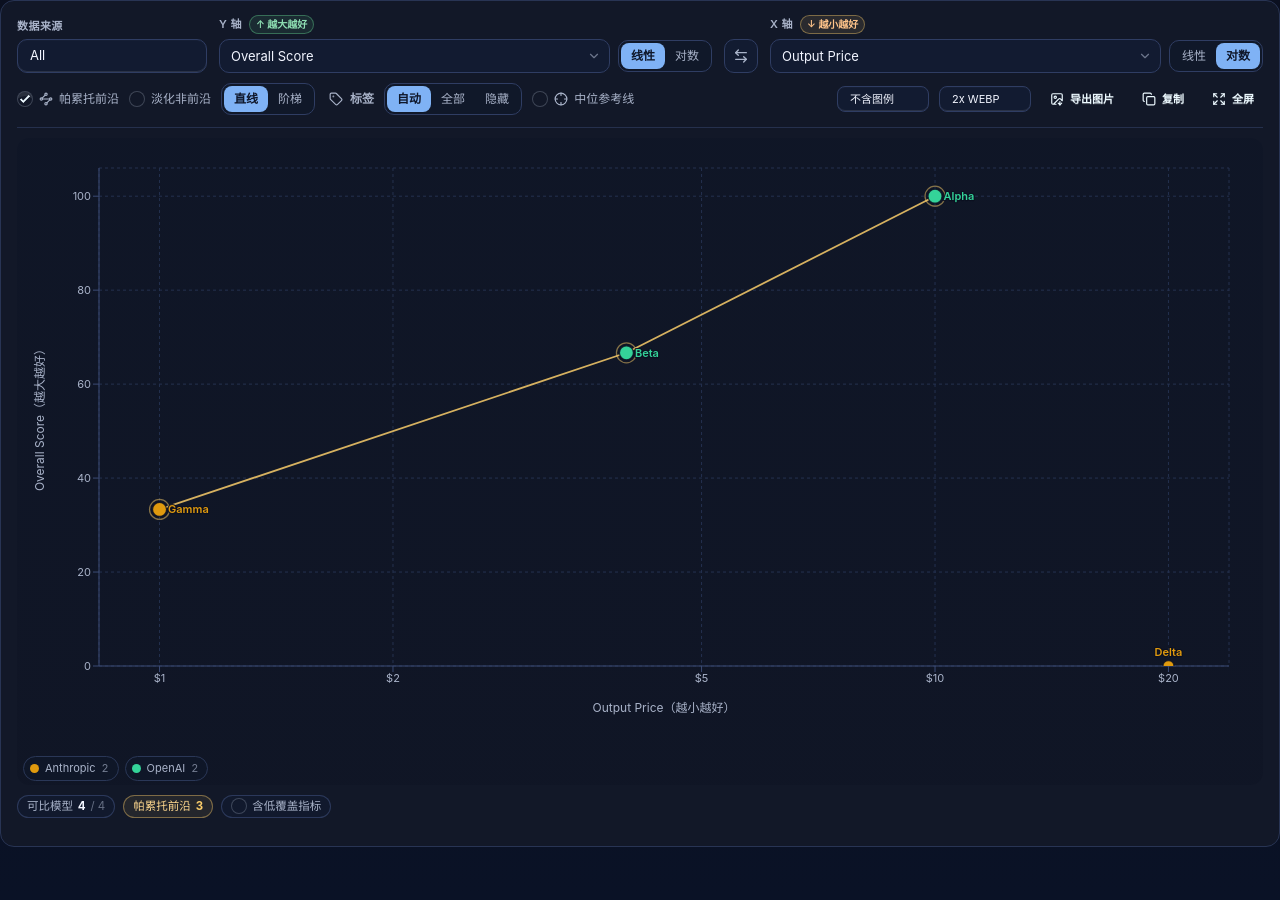
ModelScatter › 任一坐标轴切为对数后恢复帕累托前沿
The width and height of the screenshot is (1280, 900).
Step 1. Replace the text in the dropdown labelled "Y 轴 ↑ 越大越好" with "Bench-Two" → (414, 56), box [219,39,610,73]
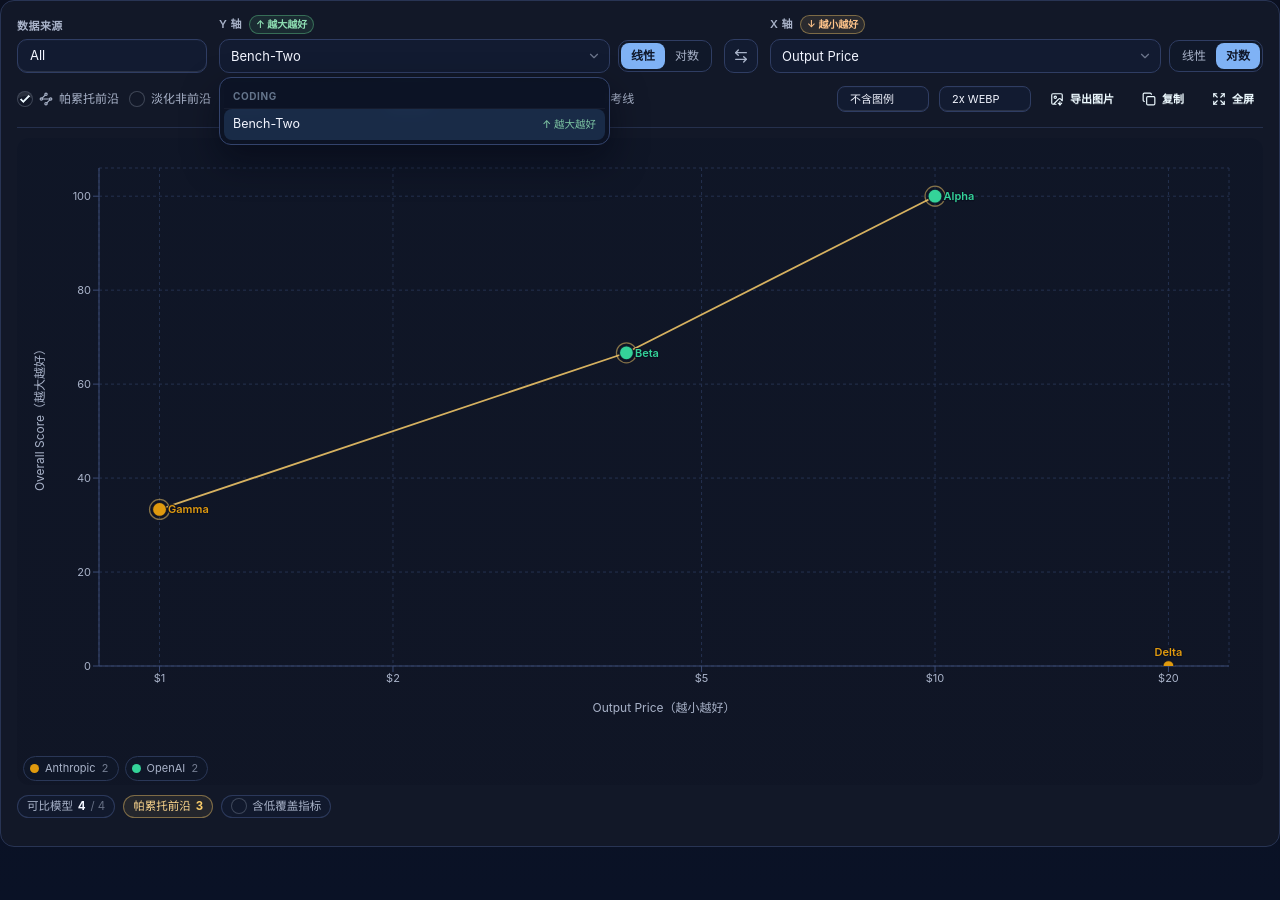
Step 2. Click the option "Bench-Two ↑ 越大越好" → (266, 124), box [224,109,605,140]
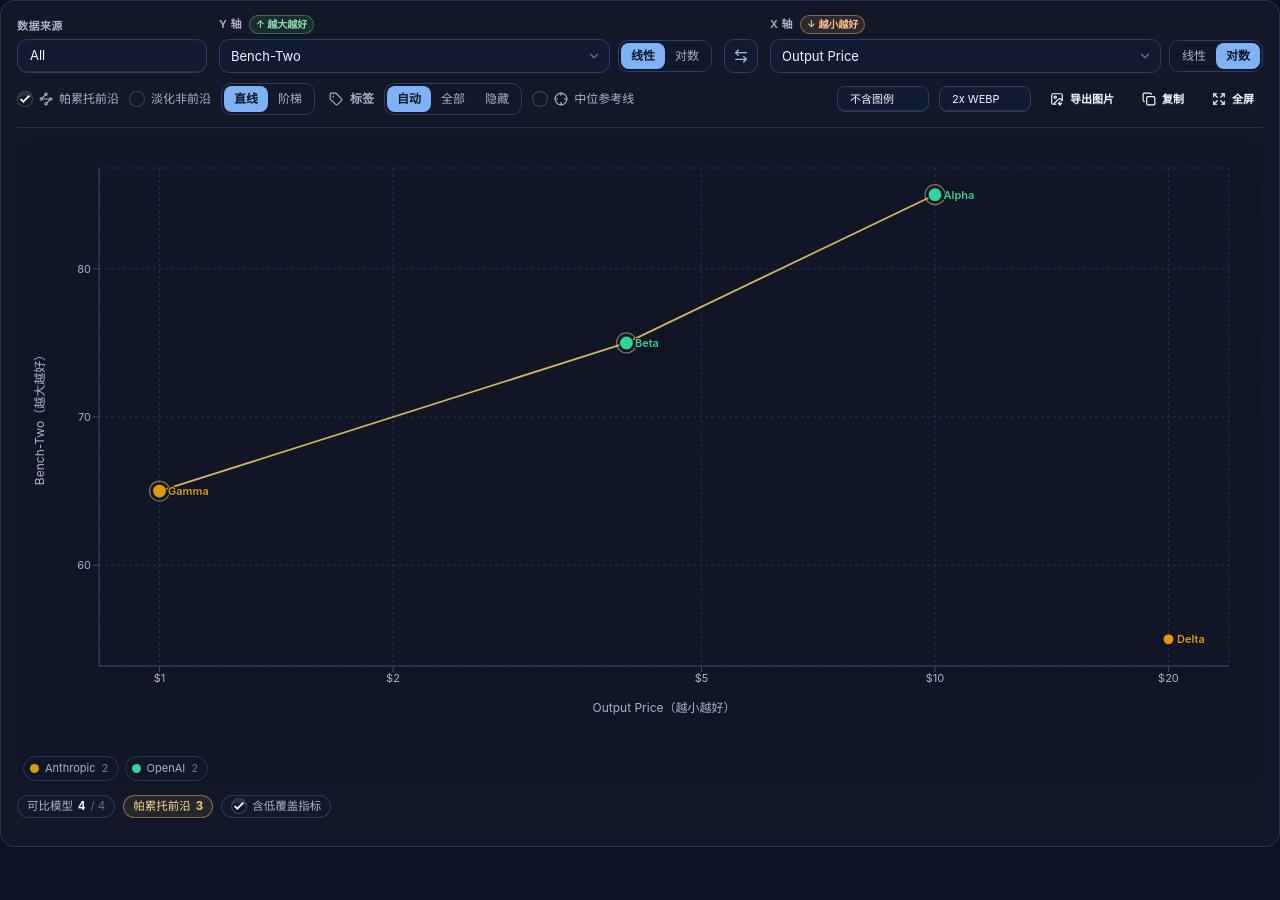
Step 3. Replace the text in the dropdown labelled "X 轴 ↓ 越小越好" with "Bench-One" → (966, 56), box [770,39,1161,73]
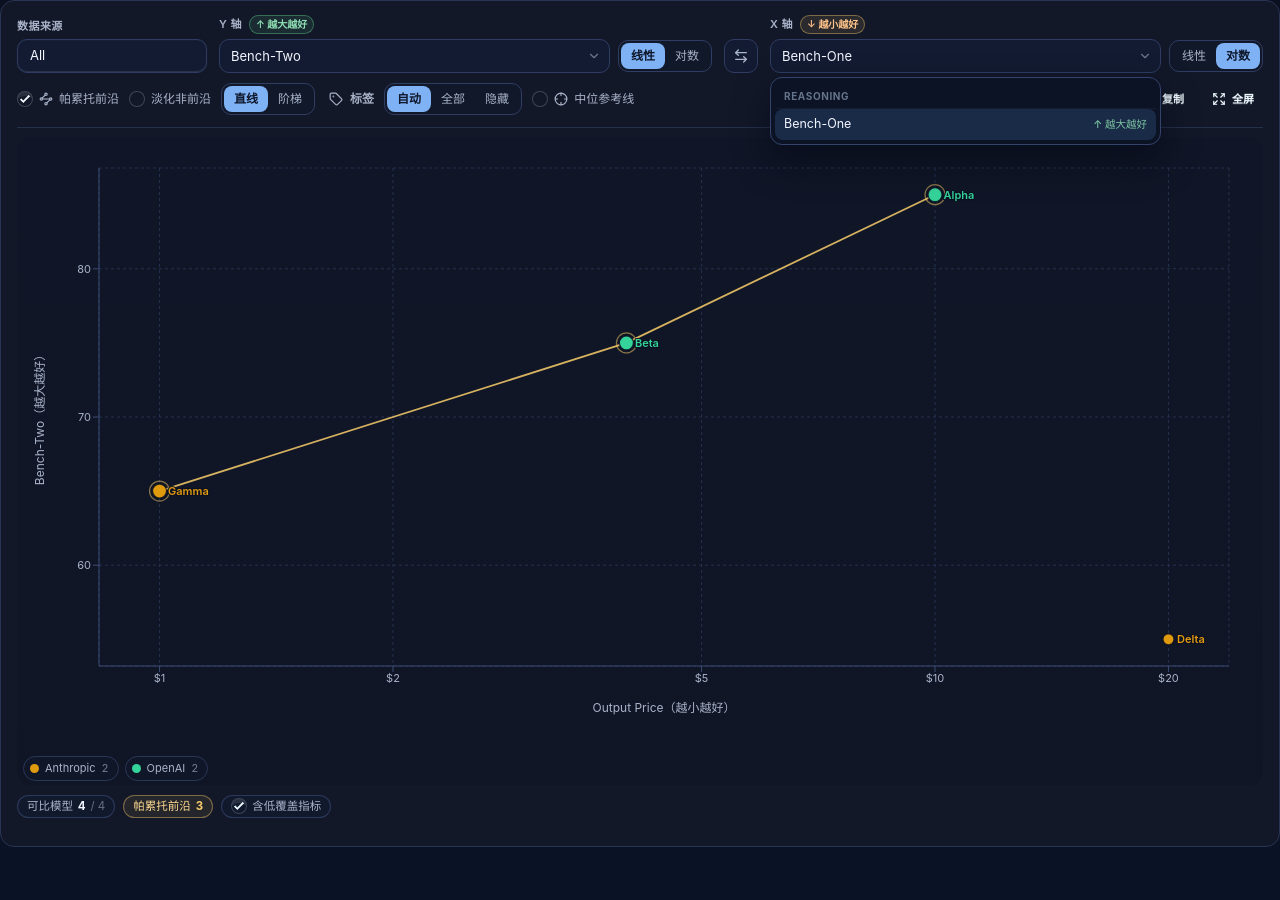
Step 4. Click the option "Bench-One ↑ 越大越好" → (818, 124), box [775,109,1156,140]
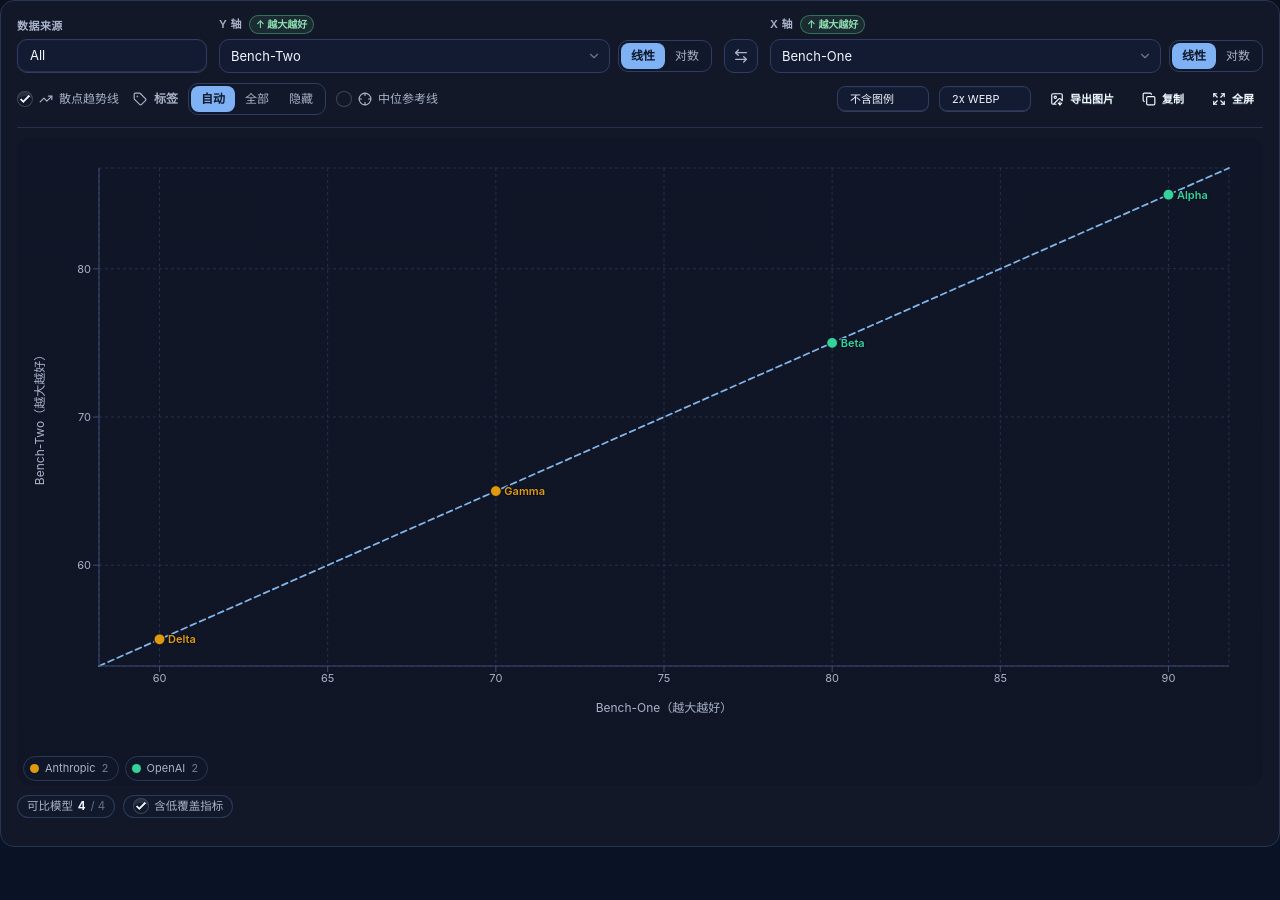
Step 5. Click the 1st button "对数" → (687, 56), box [665,43,709,69]
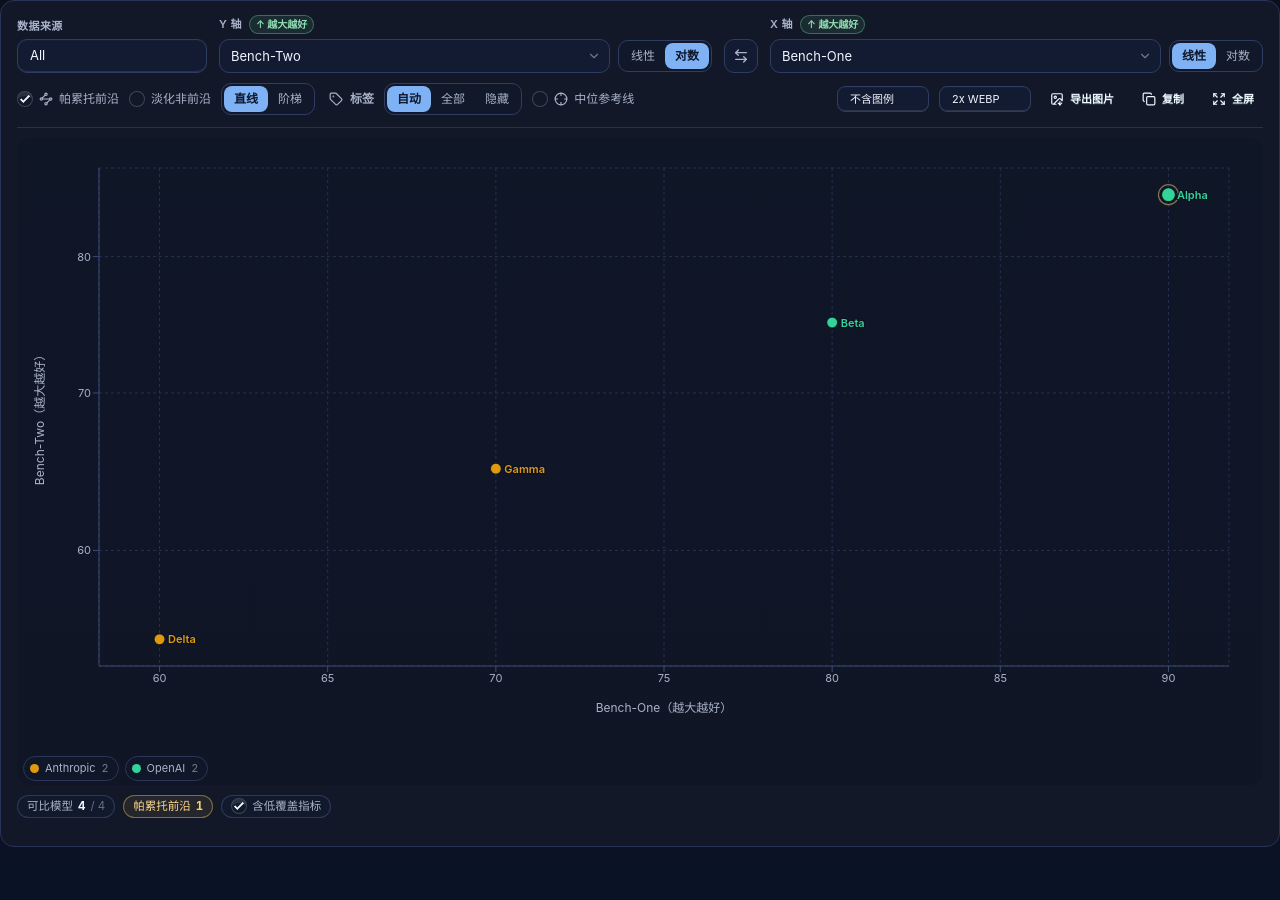
Expected: the checkbox labelled "帕累托前沿" is shown, [17,91,33,107]
Result: the checkbox labelled "淡化非前沿" is shown at [129,91,145,107]
